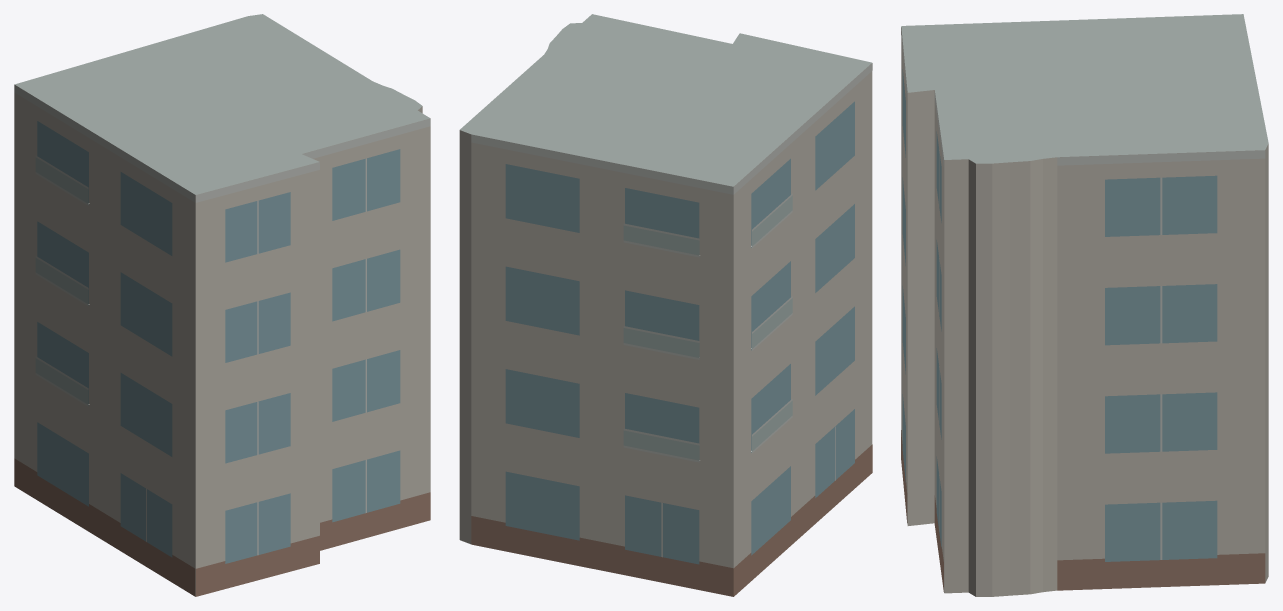
The model's file is survey-upis-32725402.glb.
The picture shows the model from 3 angles, left to right: view 1: azimuth 30°, elevation 25°; view 2: azimuth 150°, elevation 25°; view 3: azimuth 270°, elevation 25°; orthographic projection. The views are drawn at different scales.
Visible parts, largest first — view 1: survey-upis-32725402.tmp; view 2: survey-upis-32725402.tmp; view 3: survey-upis-32725402.tmp.
Boxes of the visible parts, bbox=[...] form: survey-upis-32725402.tmp: bbox=[14, 14, 430, 596]; survey-upis-32725402.tmp: bbox=[459, 14, 872, 596]; survey-upis-32725402.tmp: bbox=[901, 14, 1268, 596].
Bounding box in the file's own units: 9.18 × 12.4 × 9.54.
